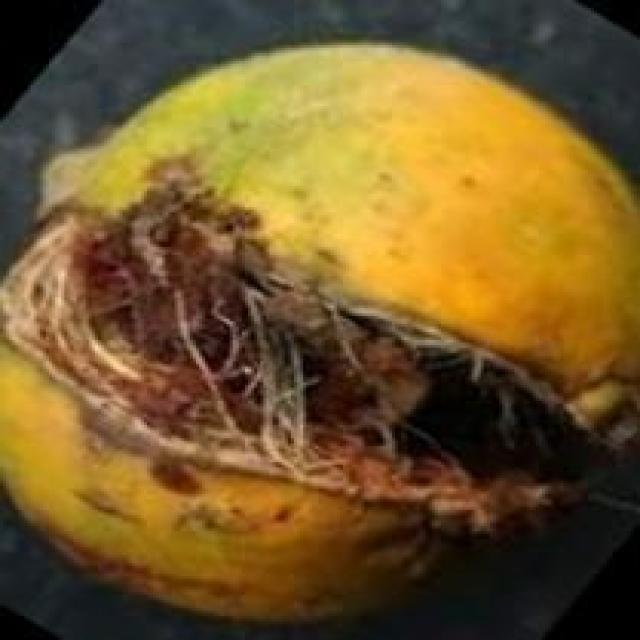damaged: (0, 40, 637, 627)
